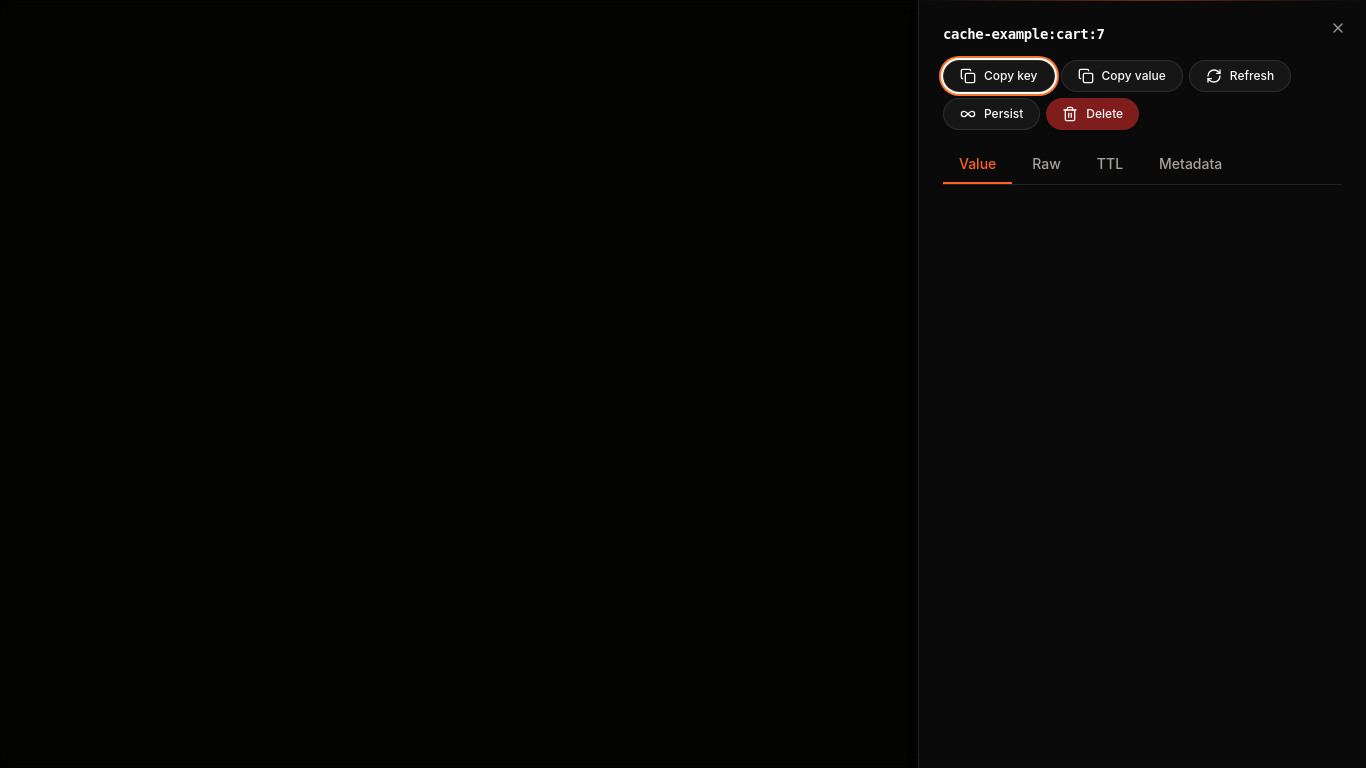
KeyDetailDrawer › renders the raw-only fallback for a key with no raw string
Click the tab "Raw" at (1047, 165), box [1016, 146, 1077, 184]
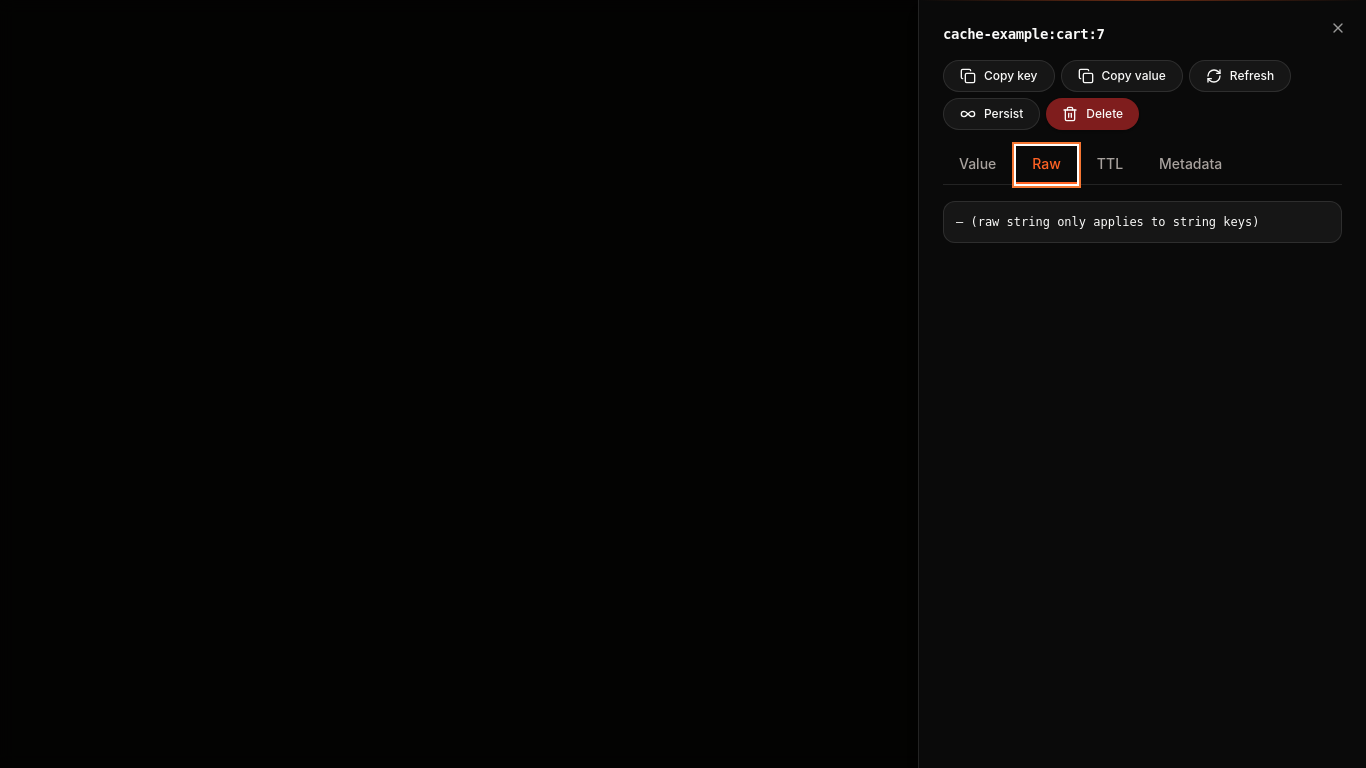
expect the text "— (raw string only applies to string keys)" is shown: met, box [943, 201, 1342, 243]
